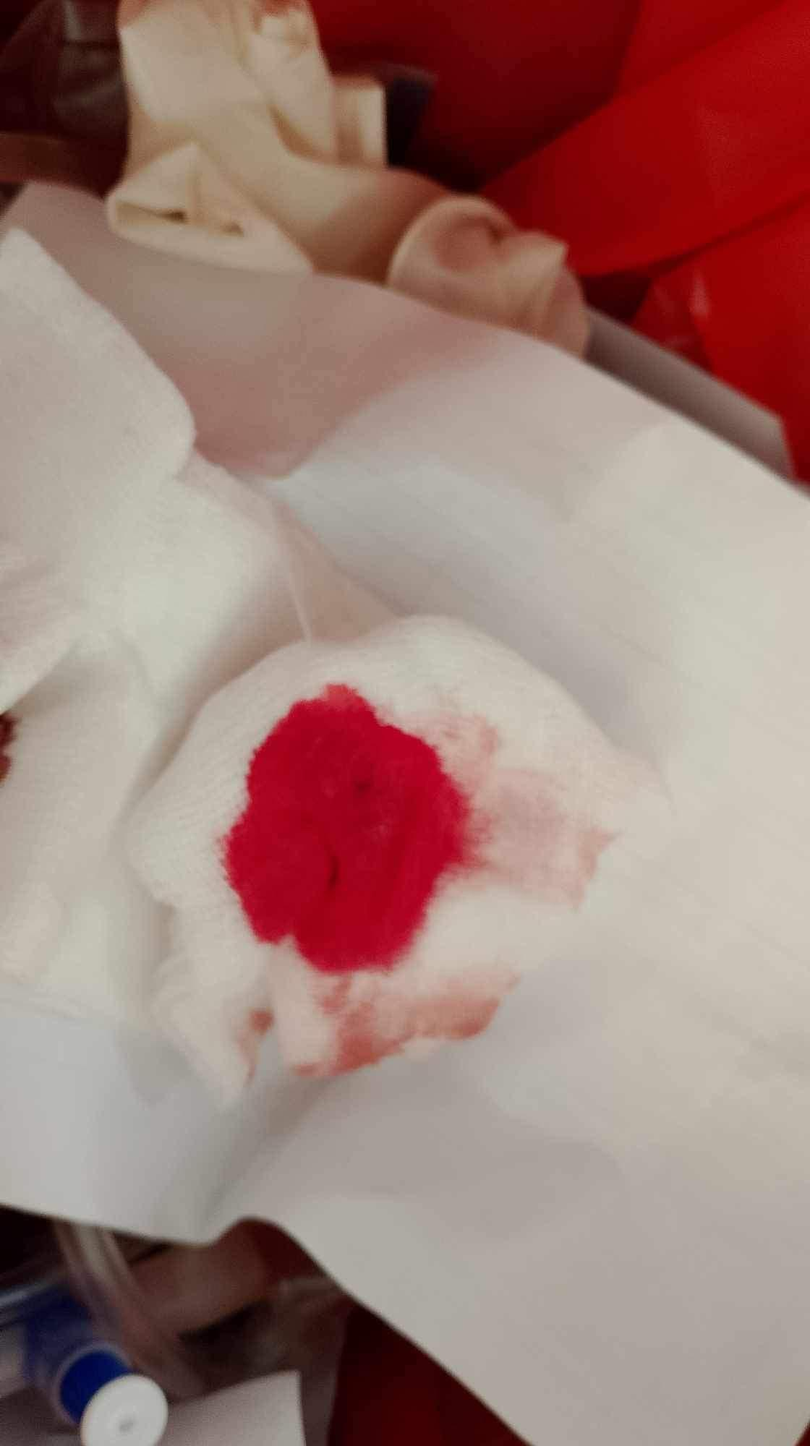Infectious: (121, 609, 670, 1107), (106, 1, 592, 360)
Pathological: (4, 176, 804, 1439)
Sharps: (1, 1267, 171, 1444)
